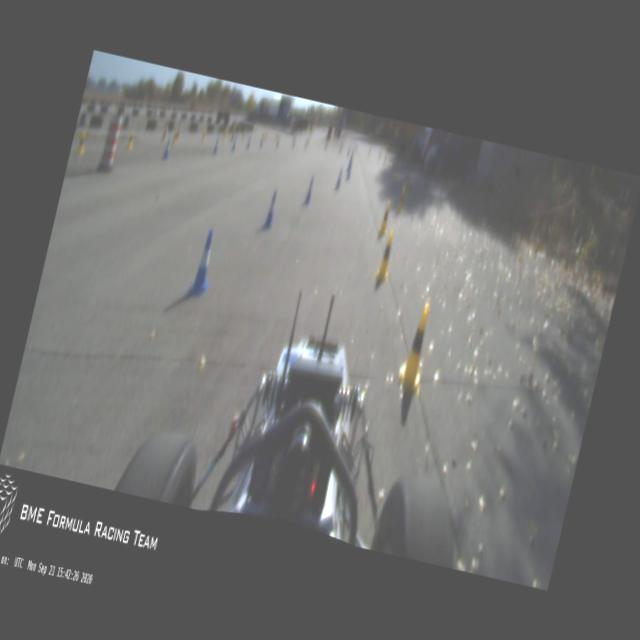blue_cone: (186, 225, 220, 297), (261, 189, 279, 229), (302, 176, 316, 204), (162, 137, 172, 160), (334, 166, 344, 188), (345, 162, 353, 180), (212, 136, 220, 154)
yellow_cone: (394, 300, 438, 396), (374, 228, 398, 282), (378, 198, 392, 236), (76, 130, 88, 156), (395, 187, 406, 214), (126, 130, 134, 150)
